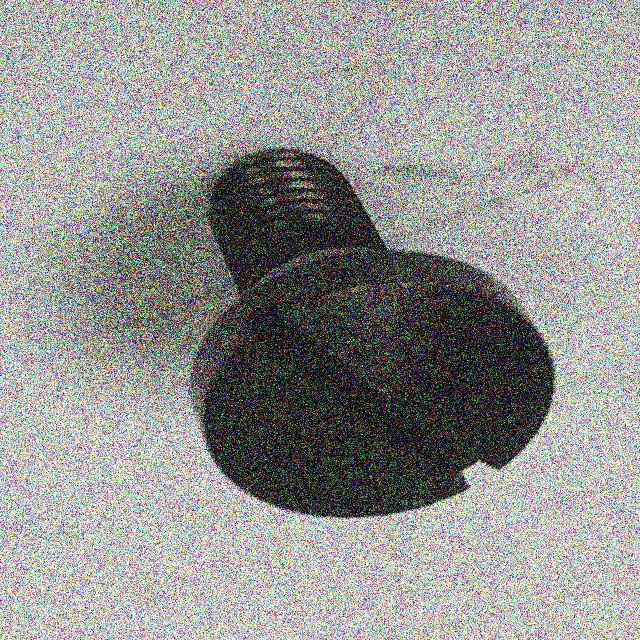duz: (196, 254, 557, 520)
